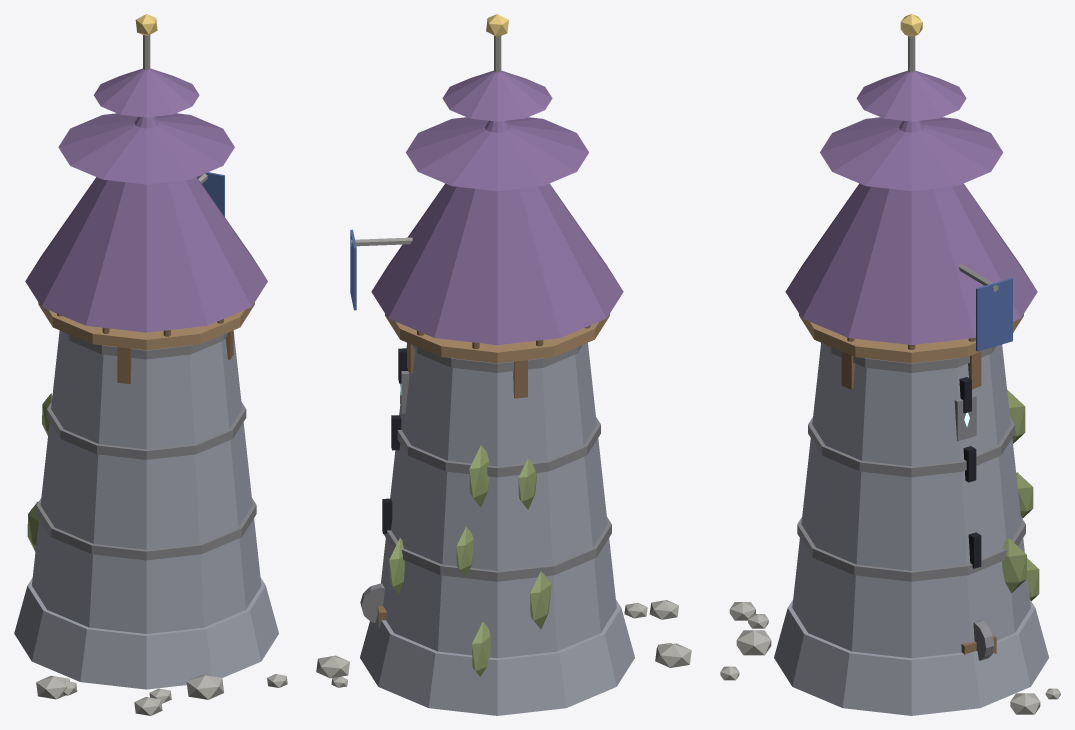
The model's file is tower.glb.
3 views of the same model, side by side, from view 1: azimuth 30°, elevation 25°; view 2: azimuth 150°, elevation 25°; view 3: azimuth 270°, elevation 25° (orthographic). The views are drawn at different scales.
Visible parts, largest first — view 1: t_shaft, roof_main, t_base, roof_ring1, roof_ring2, balcony, band0, band1, band2, rubble4, banner, rubble3 (+2 smaller); view 2: t_shaft, roof_main, t_base, roof_ring1, roof_ring2, balcony, band0, band1, band2, ivy4, ivy0, ivy3 (+6 smaller); view 3: t_shaft, roof_main, t_base, roof_ring1, roof_ring2, balcony, band0, band1, banner, band2, ivy5, rubble4 (+5 smaller).
Part boxes in pixels (x1,y1,x2,y2): t_shaft: (32, 330, 261, 633); roof_main: (25, 116, 267, 332); t_base: (14, 578, 278, 689); roof_ring1: (58, 113, 234, 184); roof_ring2: (93, 68, 199, 117); balcony: (38, 302, 254, 350); band0: (36, 498, 256, 560); band1: (47, 402, 246, 459); band2: (64, 332, 227, 359); rubble4: (186, 674, 223, 699); banner: (197, 172, 224, 216); rubble3: (36, 675, 69, 699); t_shaft: (381, 342, 616, 658); roof_main: (371, 120, 623, 344); t_base: (360, 600, 634, 715); roof_ring1: (406, 117, 588, 191); roof_ring2: (442, 70, 552, 121); balcony: (385, 314, 609, 363); band0: (383, 517, 611, 581); band1: (397, 417, 600, 477); band2: (413, 345, 582, 372); ivy4: (469, 445, 489, 507); ivy0: (530, 571, 551, 629); ivy3: (472, 621, 490, 676); t_shaft: (792, 342, 1030, 658); roof_main: (785, 120, 1037, 344); t_base: (774, 600, 1048, 715); roof_ring1: (820, 117, 1002, 191); roof_ring2: (856, 70, 966, 121); balcony: (799, 314, 1023, 363); band0: (797, 516, 1025, 581); band1: (808, 417, 1014, 477); banner: (976, 278, 1012, 351); band2: (826, 345, 995, 372); ivy5: (1002, 538, 1026, 592); rubble4: (736, 630, 771, 655).
Bounding box in the file's own units: 0.6929 × 1.56 × 0.7418.
